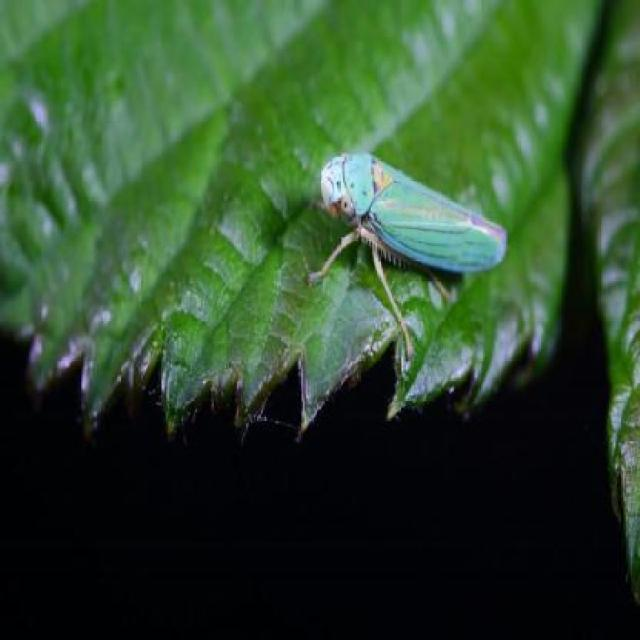green-leafhopper: (307, 147, 498, 328)
